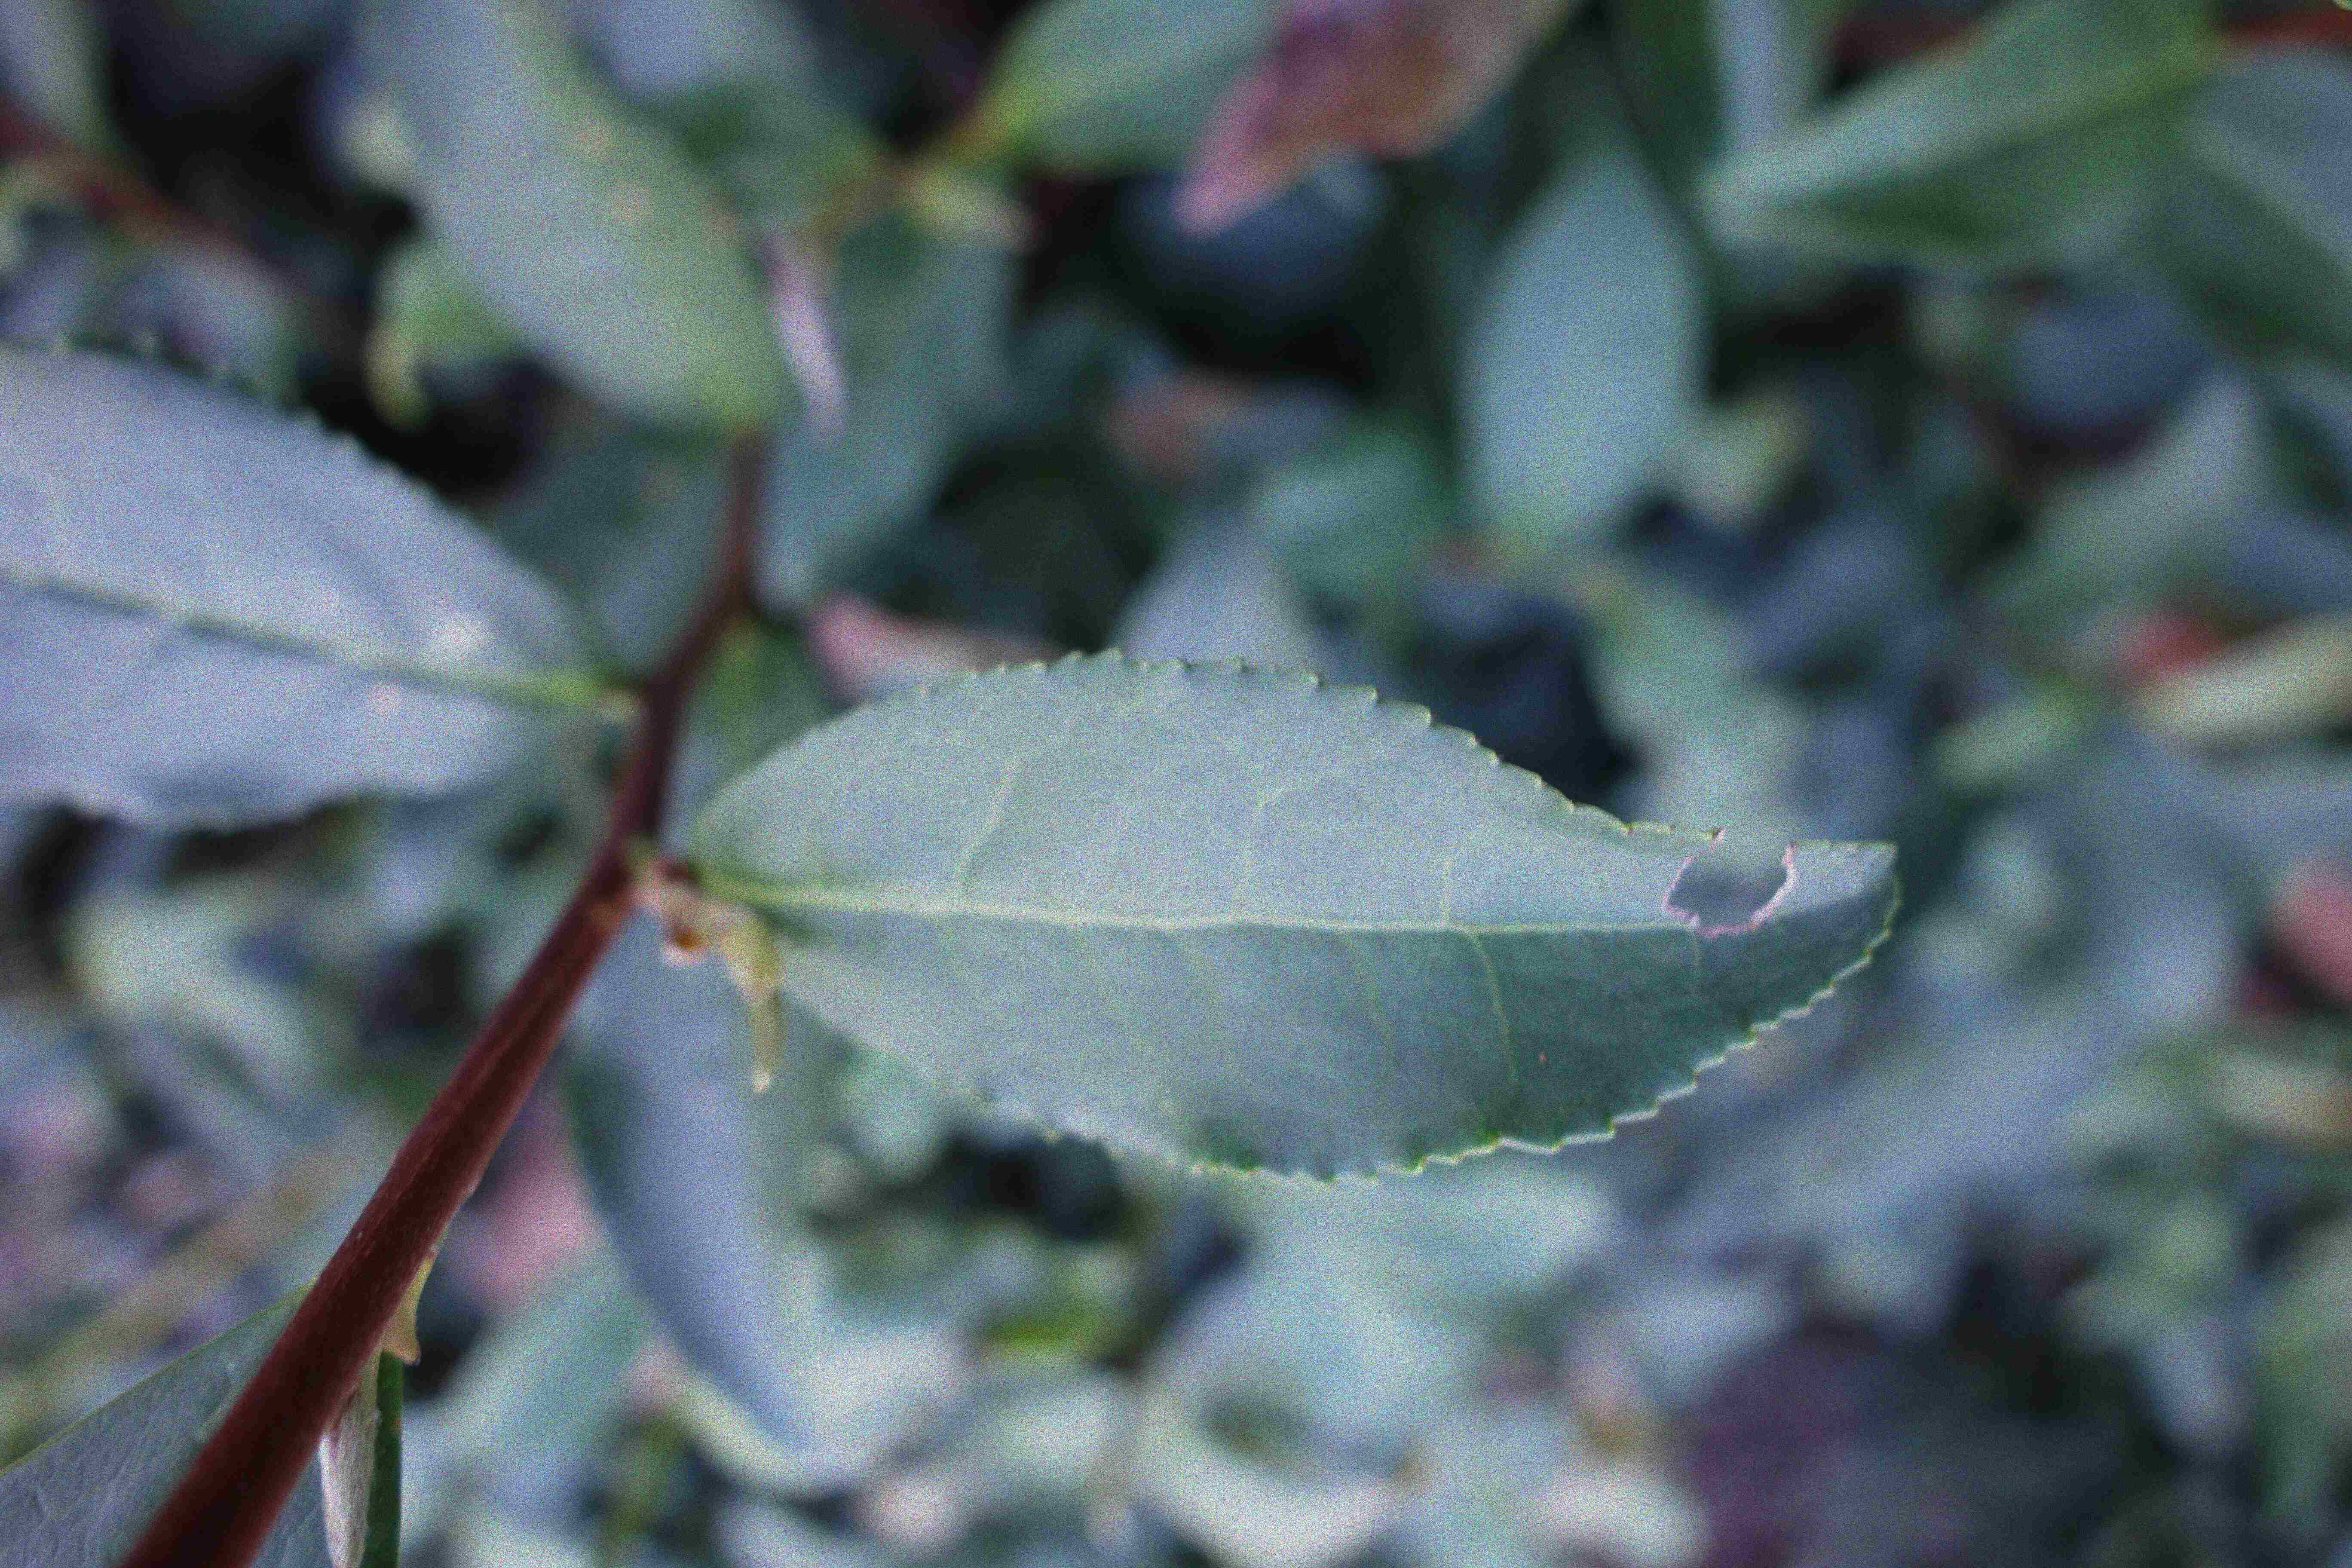chihuo_low: (689, 647, 1911, 1188)
